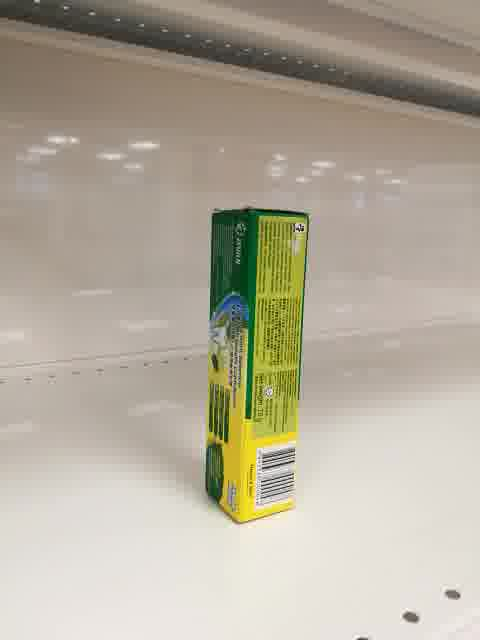toothpaste: (206, 208, 311, 526)
